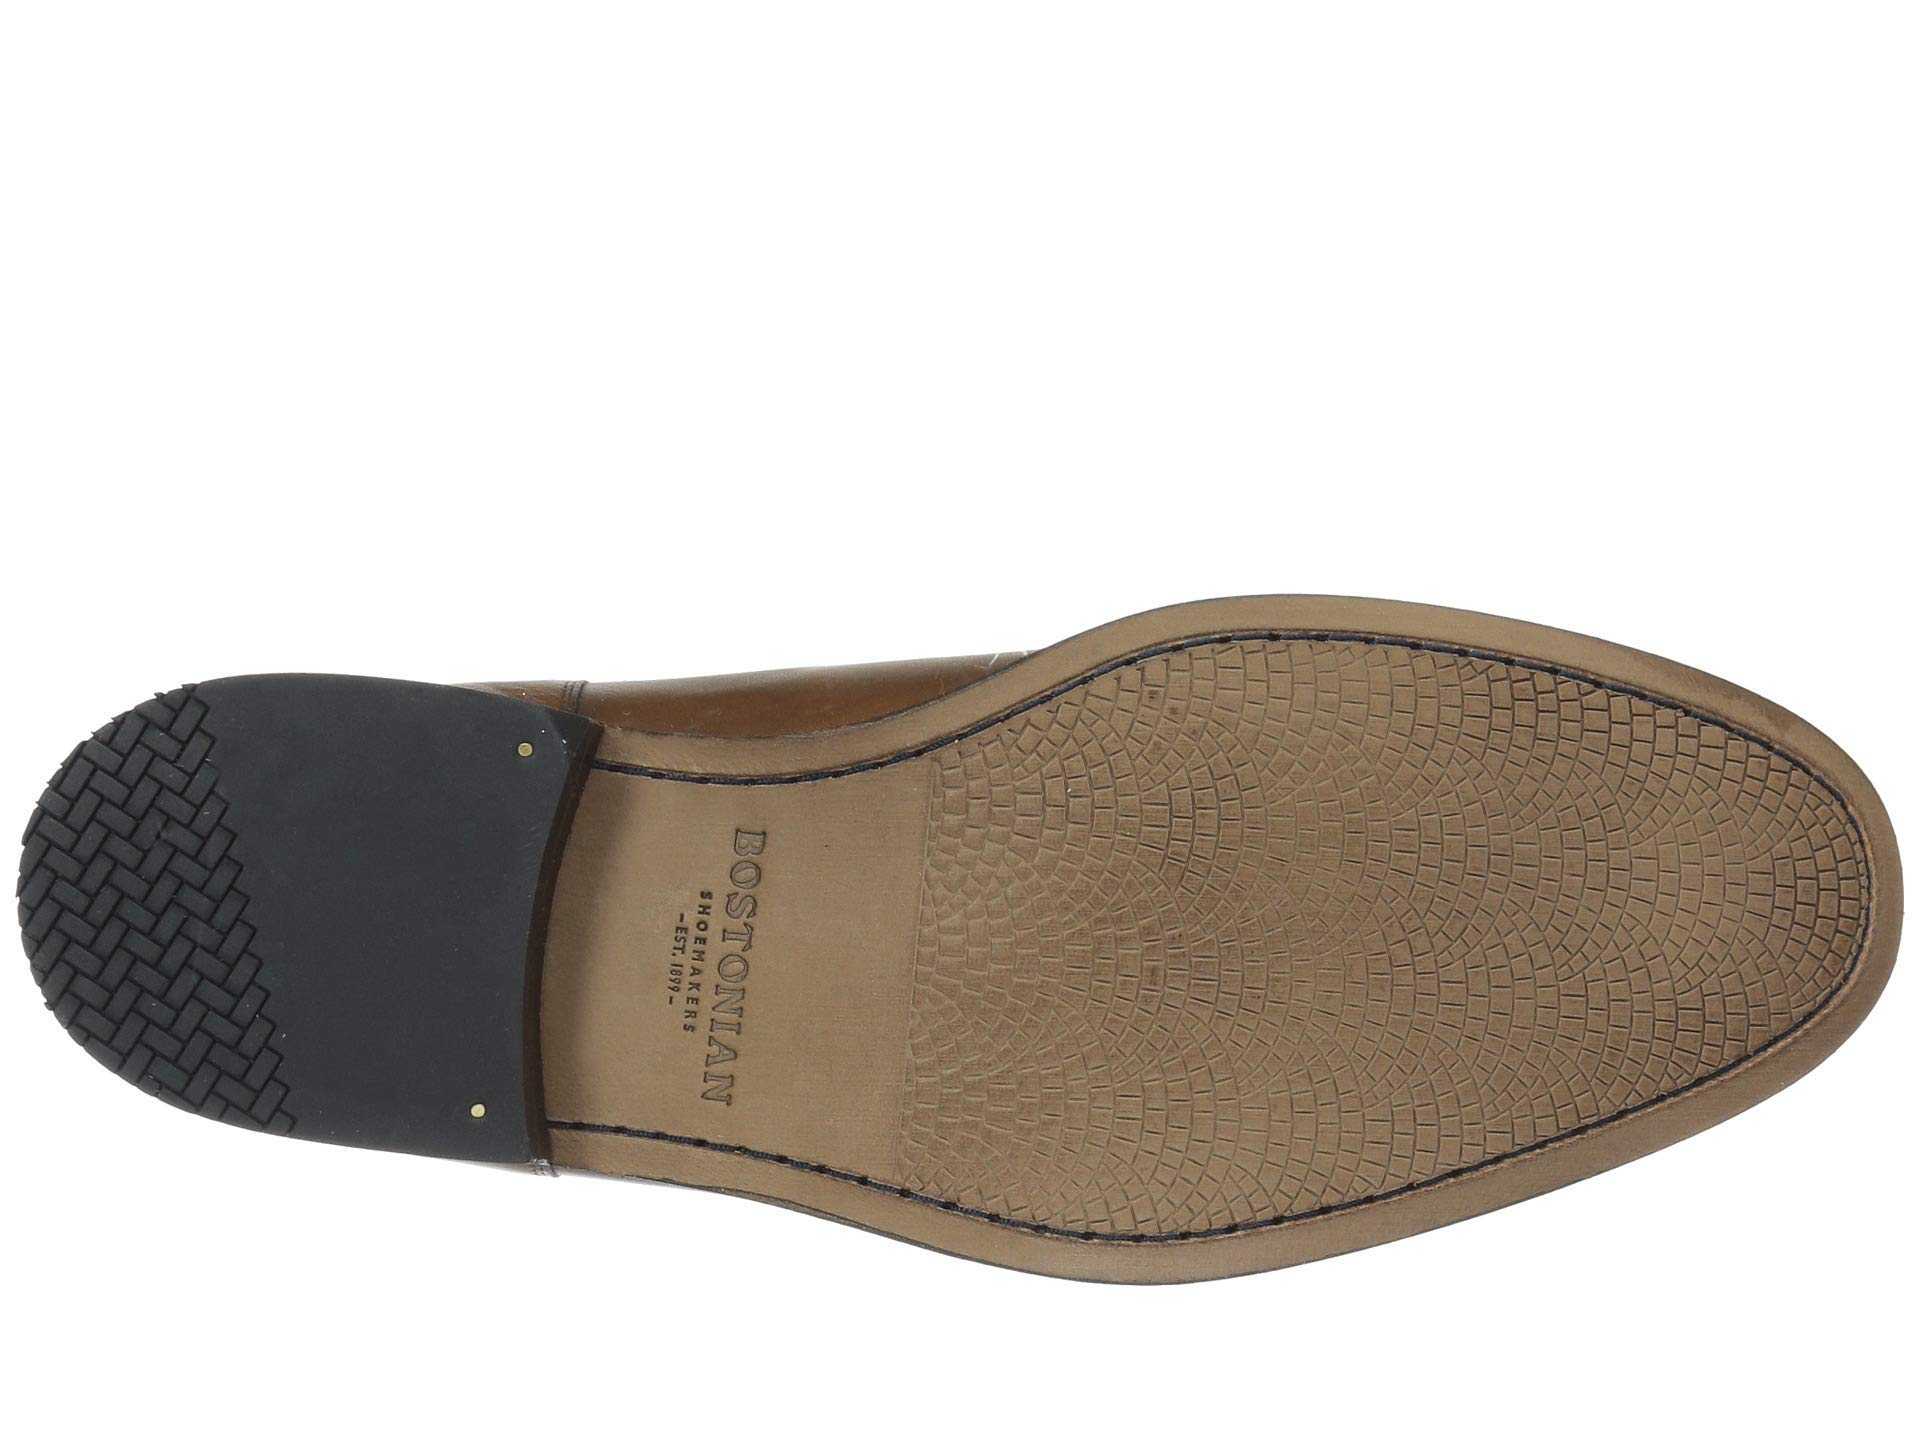chevron: (42, 818, 246, 1077)
circle: (612, 788, 900, 1128)
quad: (42, 818, 246, 1077)
text: (612, 788, 900, 1128)
